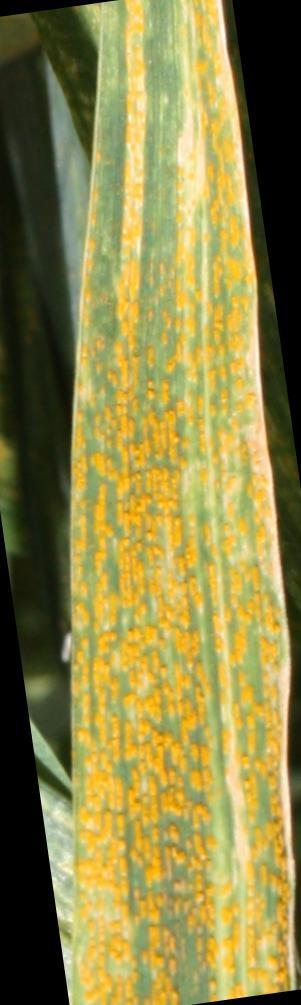Wheat: (84, 276, 284, 695), (72, 699, 282, 996)
